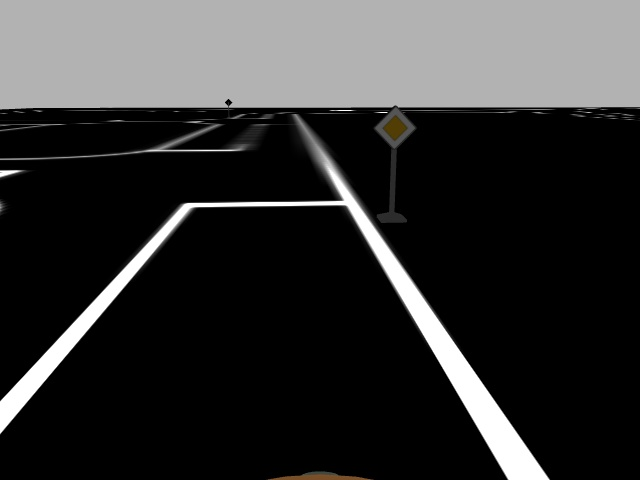priority: (373, 105, 417, 151)
